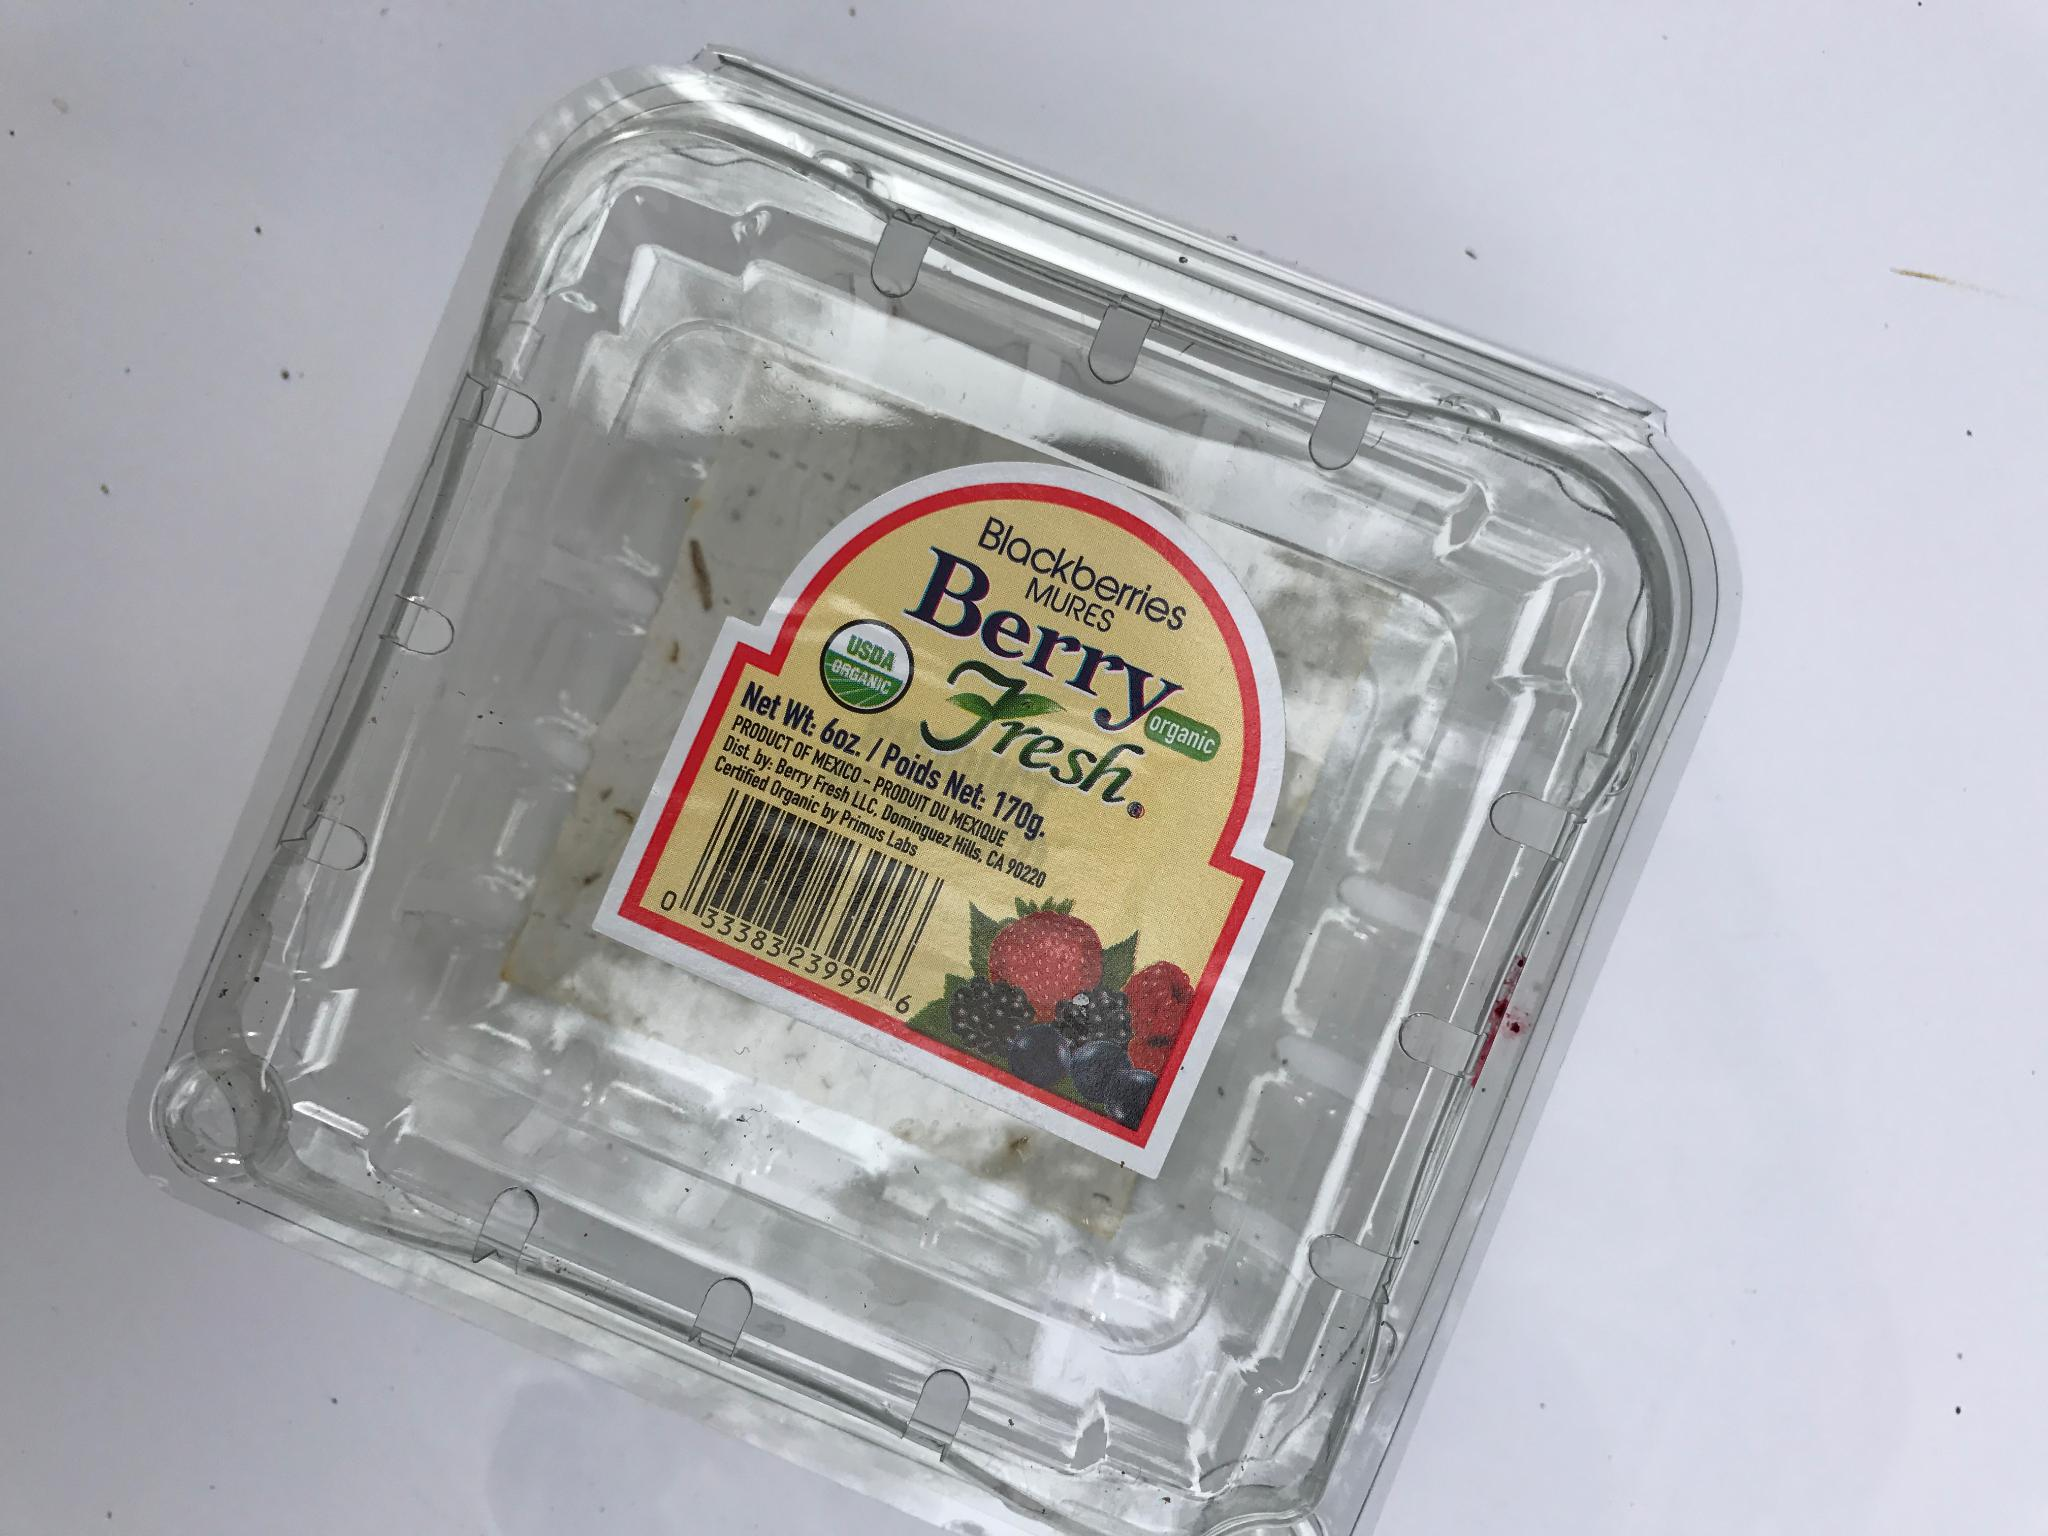Plastic: (119, 32, 1737, 1534)
